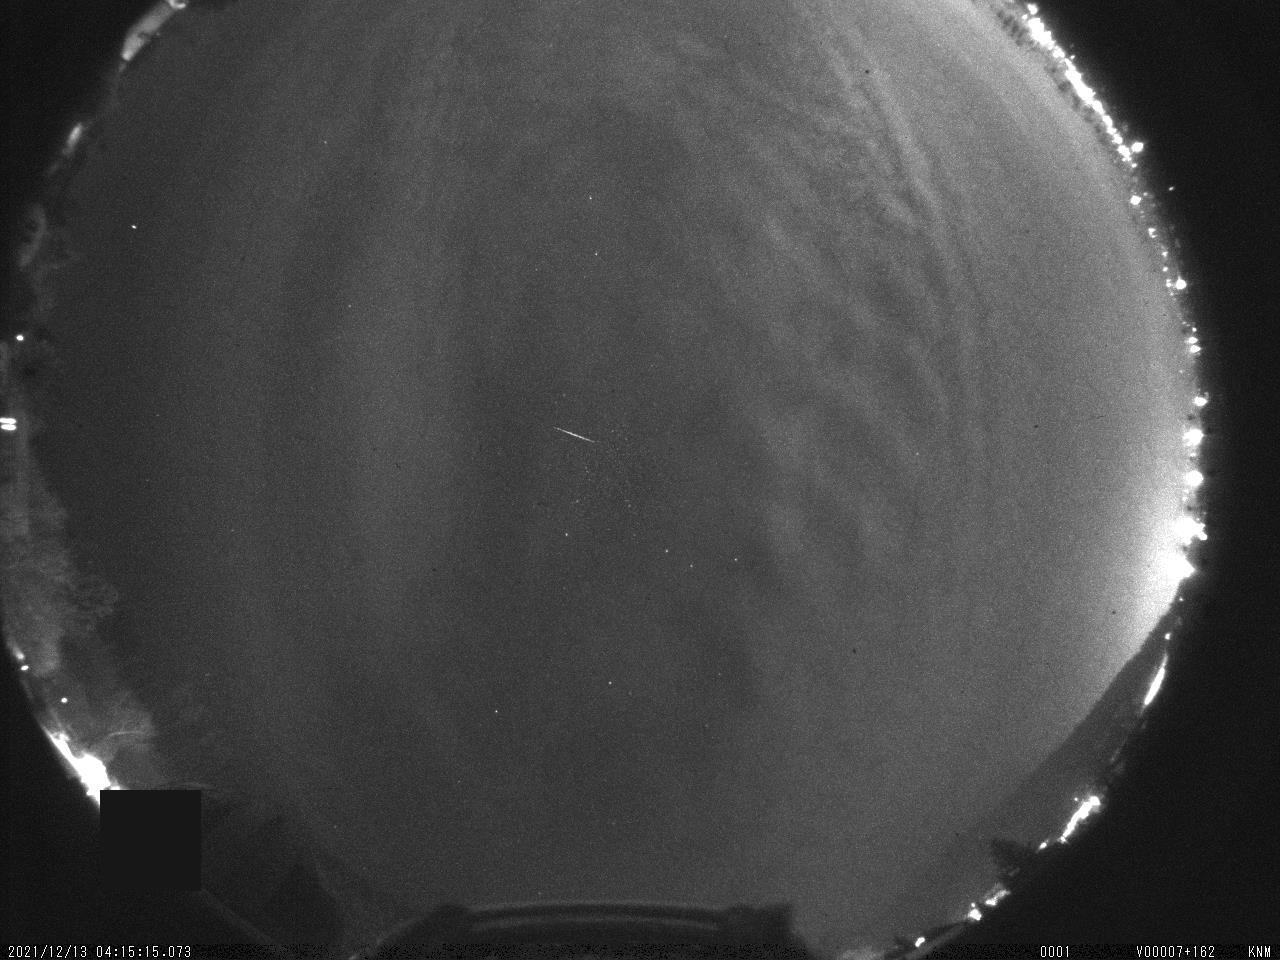meteor: (531, 413, 628, 471)
